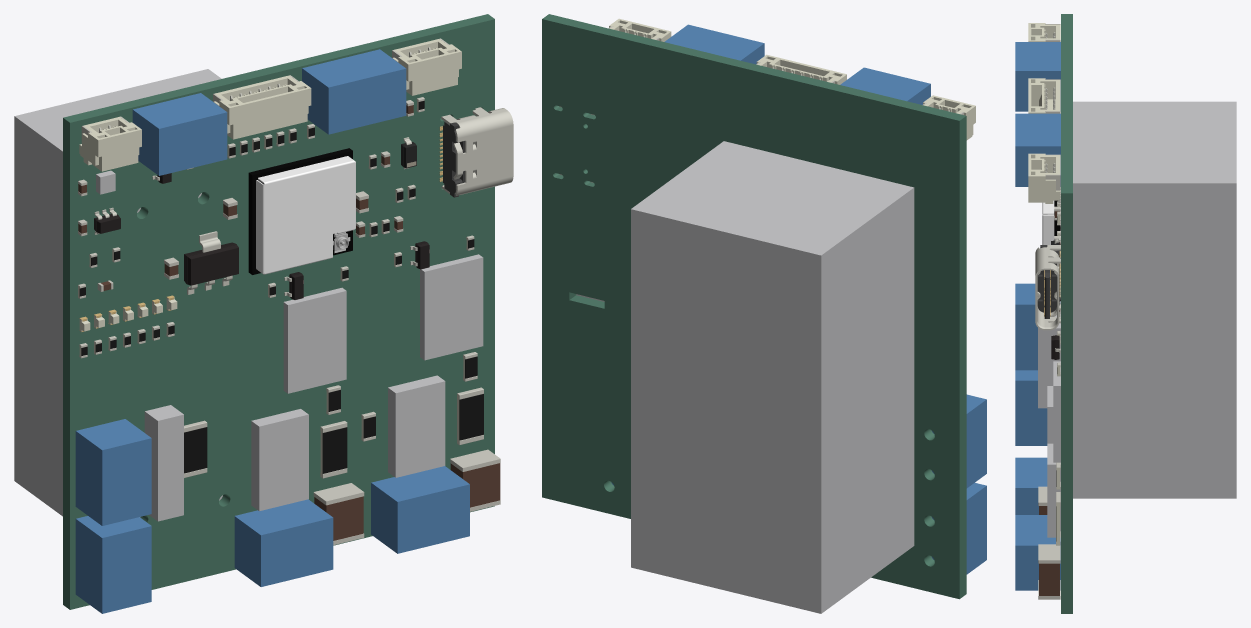
The model's file is board.glb.
3 views of the same model, side by side, from view 1: azimuth 30°, elevation 25°; view 2: azimuth 150°, elevation 25°; view 3: azimuth 270°, elevation 25° (orthographic). The views are drawn at different scales.
Parts seen in each view (by area): view 1: =>[0:1:1:34], PS1, =>[0:1:1:25]_ea9dff, J13, J14, J15, J10, J12, J2, U8, U9, Q5 (+16 smaller); view 2: PS1, =>[0:1:1:34], J10, J2, J13, J12, =>[0:1:1:17]_bb63a4, =>[0:1:1:19]_94b60a, =>[0:1:1:31]_d58c9c; view 3: PS1, =>[0:1:1:34], J10, J15, J2, J12, J13, J14, =>[0:1:1:31]_d58c9c, =>[0:1:1:29]_802e5d, F1, =>[0:1:1:17]_bb63a4 (+8 smaller).
Boxes of the visible parts, x1,y1,x2,y2 form: =>[0:1:1:34]: [63, 14, 494, 609]; PS1: [14, 69, 222, 516]; =>[0:1:1:25]_ea9dff: [256, 156, 355, 274]; J13: [75, 419, 151, 525]; J14: [234, 499, 333, 586]; J15: [371, 466, 469, 553]; J10: [302, 49, 406, 134]; J12: [75, 516, 151, 613]; J2: [132, 93, 227, 175]; U8: [283, 287, 346, 393]; U9: [420, 254, 483, 360]; Q5: [251, 409, 308, 511]; PS1: [631, 141, 914, 613]; =>[0:1:1:34]: [542, 14, 966, 599]; J10: [665, 24, 764, 64]; J2: [840, 67, 930, 104]; J13: [931, 394, 986, 488]; J12: [932, 483, 986, 574]; =>[0:1:1:17]_bb63a4: [756, 54, 846, 84]; =>[0:1:1:19]_94b60a: [923, 95, 975, 140]; =>[0:1:1:31]_d58c9c: [609, 18, 671, 41]; PS1: [1073, 101, 1236, 498]; =>[0:1:1:34]: [1061, 14, 1072, 613]; J10: [1015, 113, 1060, 186]; J15: [1015, 515, 1060, 590]; J2: [1015, 42, 1060, 111]; J12: [1015, 370, 1047, 445]; J13: [1015, 283, 1060, 370]; J14: [1015, 457, 1047, 514]; =>[0:1:1:31]_d58c9c: [1028, 153, 1060, 203]; =>[0:1:1:29]_802e5d: [1035, 245, 1060, 330]; F1: [1038, 328, 1053, 408]; =>[0:1:1:17]_bb63a4: [1028, 78, 1060, 113].
Bounding box in the file's own units: 56.17 × 61 × 29.1.
